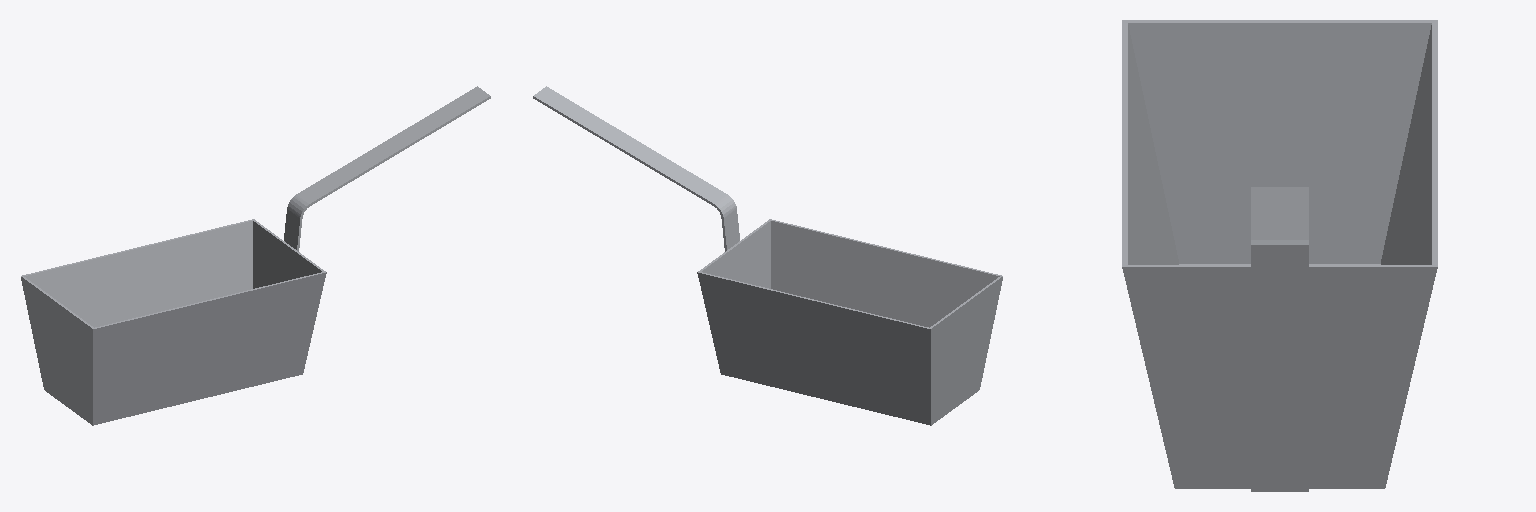
URDF robot description (fryer_basket):
<?xml version="1.0"?>
<!--
  fryer_basket.urdf
  바탕화면 "튀김바스켓.step" → 변환 (얕은 트레이형 몸통 + 평평한 스트랩 손잡이가 위로 둥글게 이어진 형태).
  이전 버전(Fryer_Basket.step, 와이어프레임)을 대체함 — 형태가 완전히 달라져 치수/무게중심 전부 재계산.
  - 원본 STEP 단위 mm → 메쉬 좌표를 m로 스케일 후, 긴 축(원본은 Y)이 로컬 +X를 향하도록 -90도 회전해서 저장
    (이전 버전과 동일하게 "손잡이가 로컬 +X쪽" 관례를 유지하기 위함 — 배치 코드 재사용 목적)
  - 원점: 모델 자체 기준점. 바닥(몸통 밑면)은 로컬 z=-0.1719
  - 치수 0.559(X) x 0.165(Y) x 0.269(Z) m (삼각형 104면 — 단순화된 형태)
  - 몸통(트레이): x:-0.327~-0.124, 손잡이(평평한 스트랩, 위로 둥글게): x:-0.03~+0.232, 끝(+X)이 손잡이 팁
  - 시각/충돌 모두 원본 메쉬 사용. collision은 스폰 시 AssetOptions.vhacd_enabled=True(볼록 분해)로 로드할 것
    (예: run_deepfry_B.py 참고)
  - 그리퍼로 집어 옮기는 대상이므로 fix_base_link=False(기본) 권장
  - 관성 원점/텐서는 STL 삼각형을 면적가중 점질량으로 근사해 계산(무게중심이 몸통 쪽으로 치우침, 정상)
-->
<robot name="fryer_basket">

  <material name="basket_steel"> <color rgba="0.72 0.73 0.75 1.0"/> </material>

  <link name="base_link">
    <inertial>
      <origin xyz="-0.15696 0.0 -0.10441"/>
      <mass value="0.3"/>
      <!-- 면적가중 점질량 근사 관성 (m=0.3) -->
      <inertia ixx="0.001599" ixy="-0.000048" ixz="-0.000725" iyy="0.004122" iyz="0.000008" izz="0.004096"/>
    </inertial>

    <visual>
      <origin xyz="0 0 0"/>
      <geometry><mesh filename="meshes/fryer_basket.stl" scale="1 1 1"/></geometry>
      <material name="basket_steel"/>
    </visual>

    <collision>
      <origin xyz="0 0 0"/>
      <geometry><mesh filename="meshes/fryer_basket.stl" scale="1 1 1"/></geometry>
    </collision>
  </link>
</robot>

--- Render facts (derived) ---
The picture shows the robot from 3 angles, left to right: view 1: azimuth 30°, elevation 25°; view 2: azimuth 150°, elevation 25°; view 3: azimuth 270°, elevation 25°; orthographic projection.
Model fryer_basket with 1 links and 0 joints (none), rooted at base_link, posed all joints at 0.
Visible links, largest first — view 1: base_link; view 2: base_link; view 3: base_link.
Link boxes in pixels (x1=…): base_link: x1=21, y1=86, x2=490, y2=425; base_link: x1=533, y1=86, x2=1002, y2=425; base_link: x1=1122, y1=20, x2=1437, y2=491.
Bounding box of the posed robot: 0.5593 × 0.165 × 0.269 m (x, y, z).
1 mesh visuals loaded from 1 distinct referenced files (1 binary STL).
